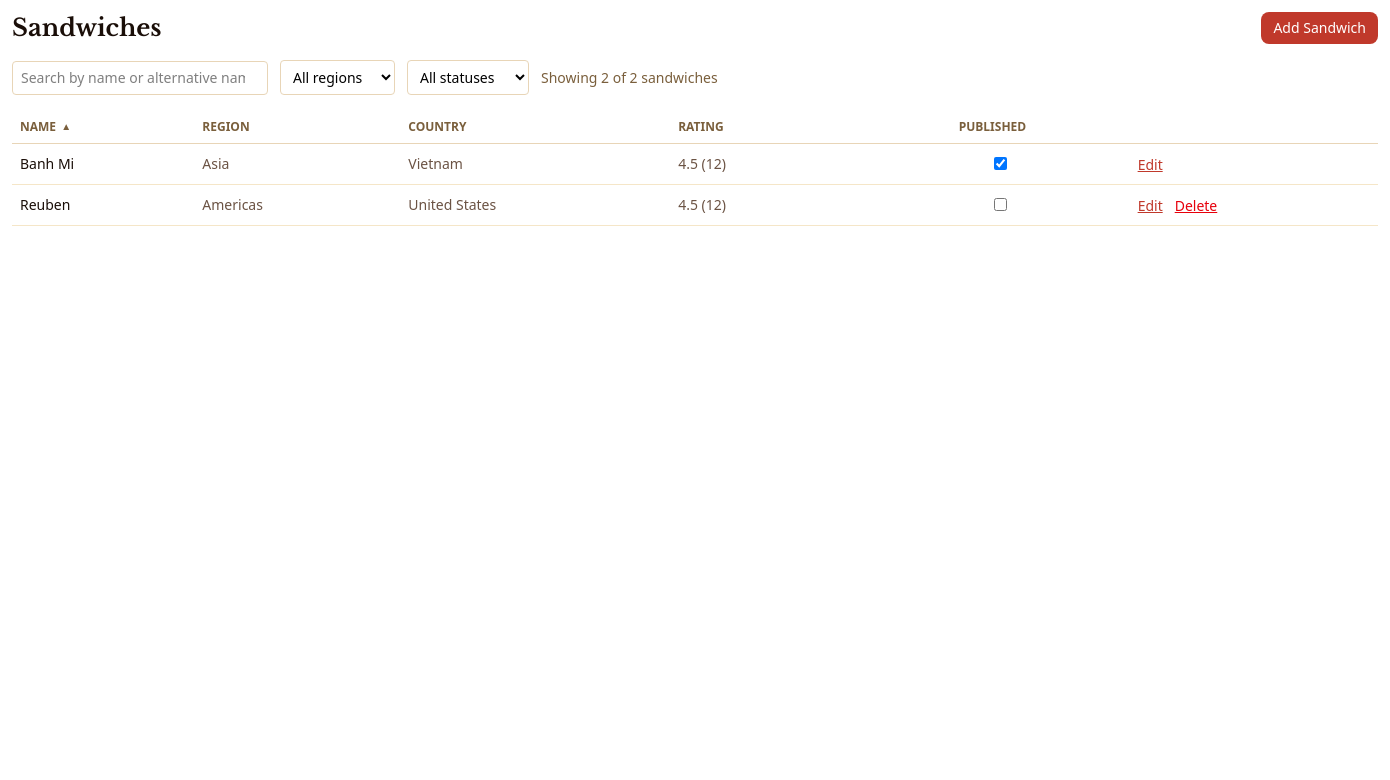
Test: DatabaseManagementPage creating › suggests a slug from the name
Expected: the text "Reuben" is shown, [12,184,194,226]
Click the button "Add Sandwich" at (1320, 28), box [1261,12,1378,44]
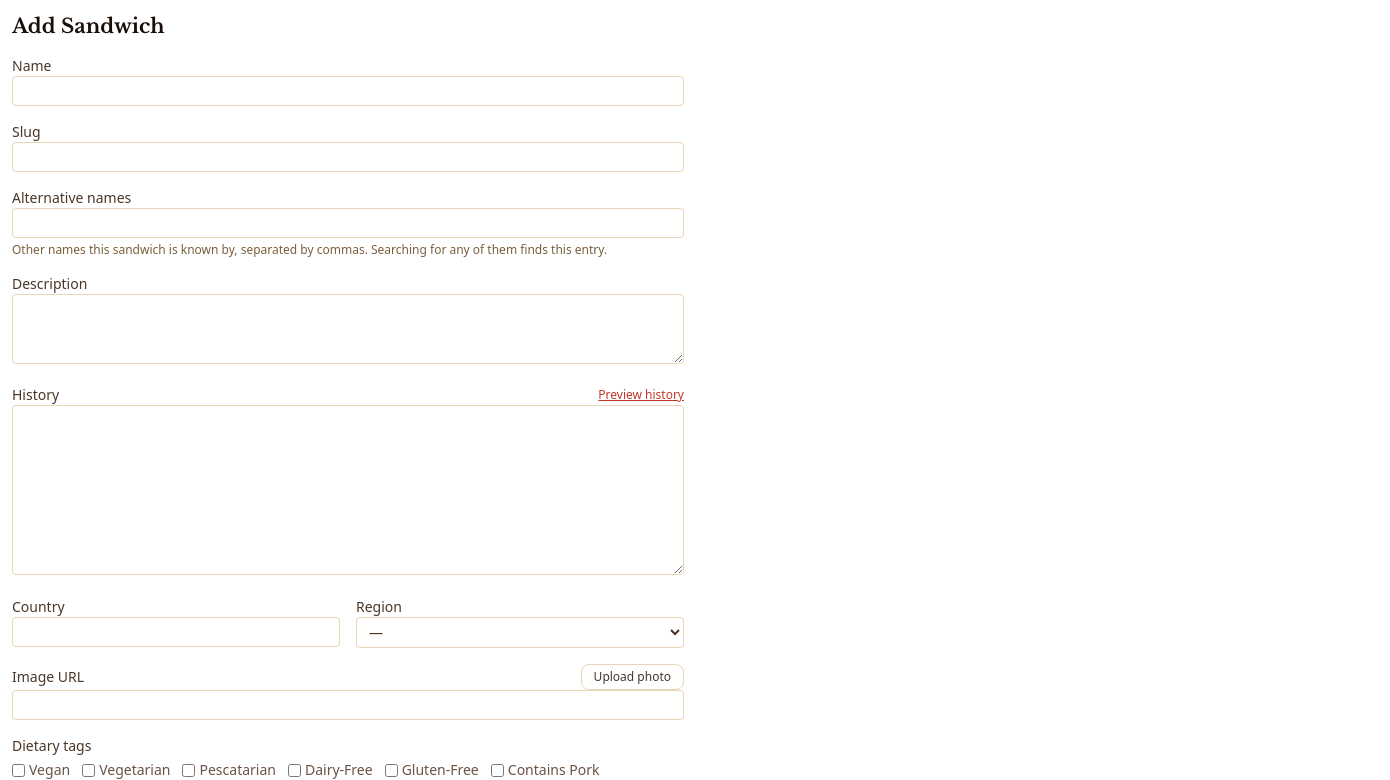
Type "Philly Cheesesteak" into the field labelled "Name" at (348, 91), box [12,76,684,106]
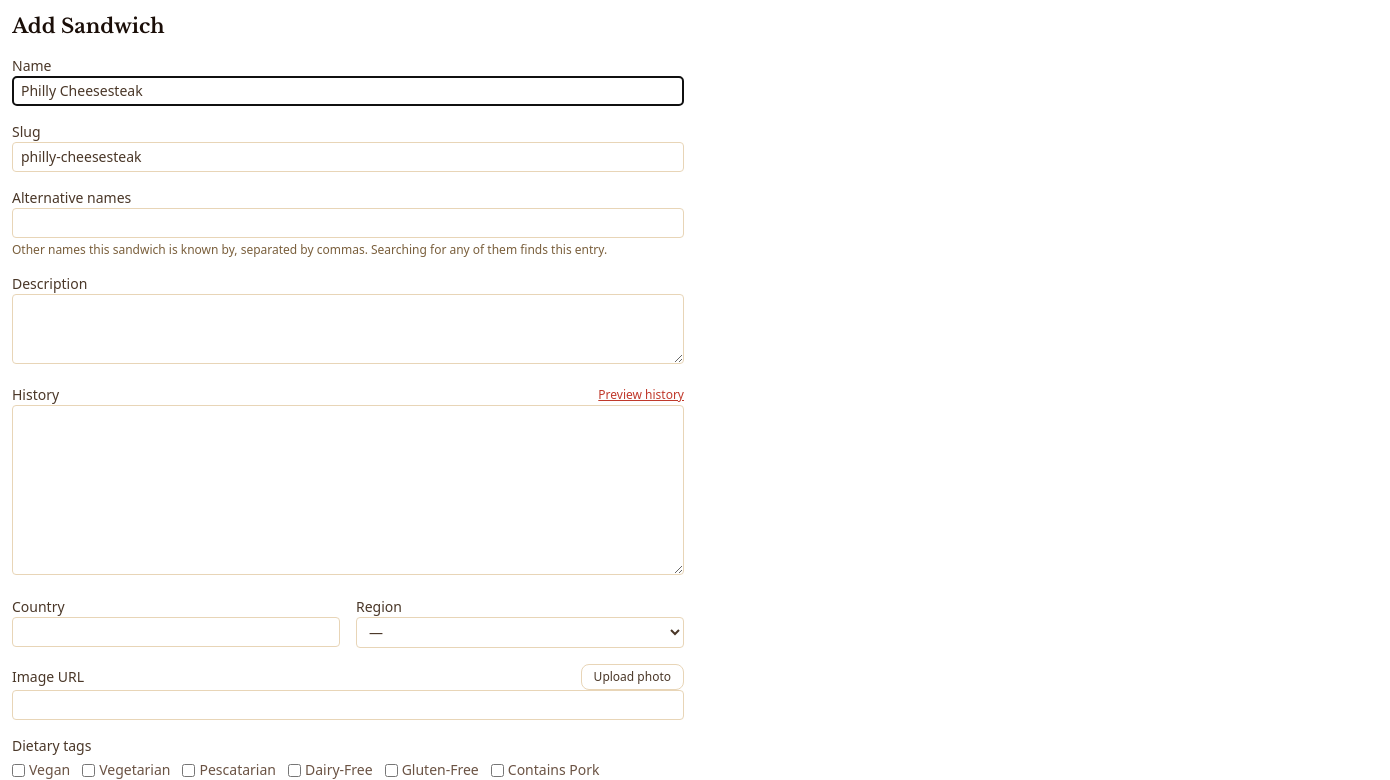
Result: the field labelled "Slug" holds "philly-cheesesteak" at [12,142,684,172]
